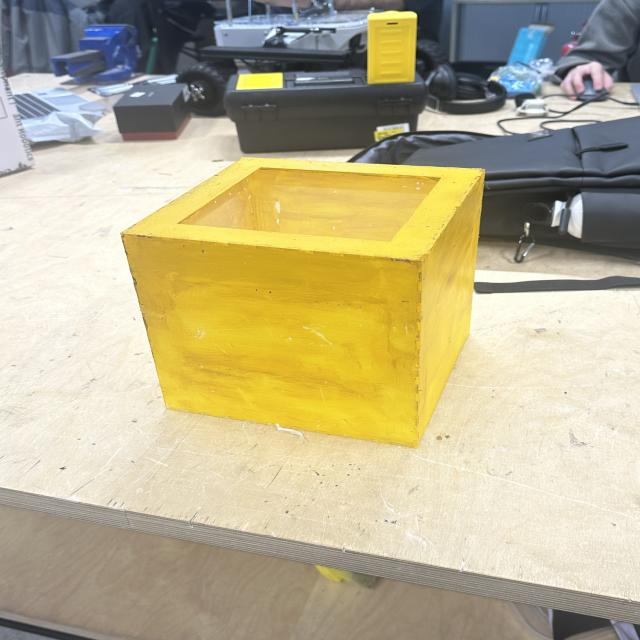yellow_bin: (119, 154, 489, 450)
